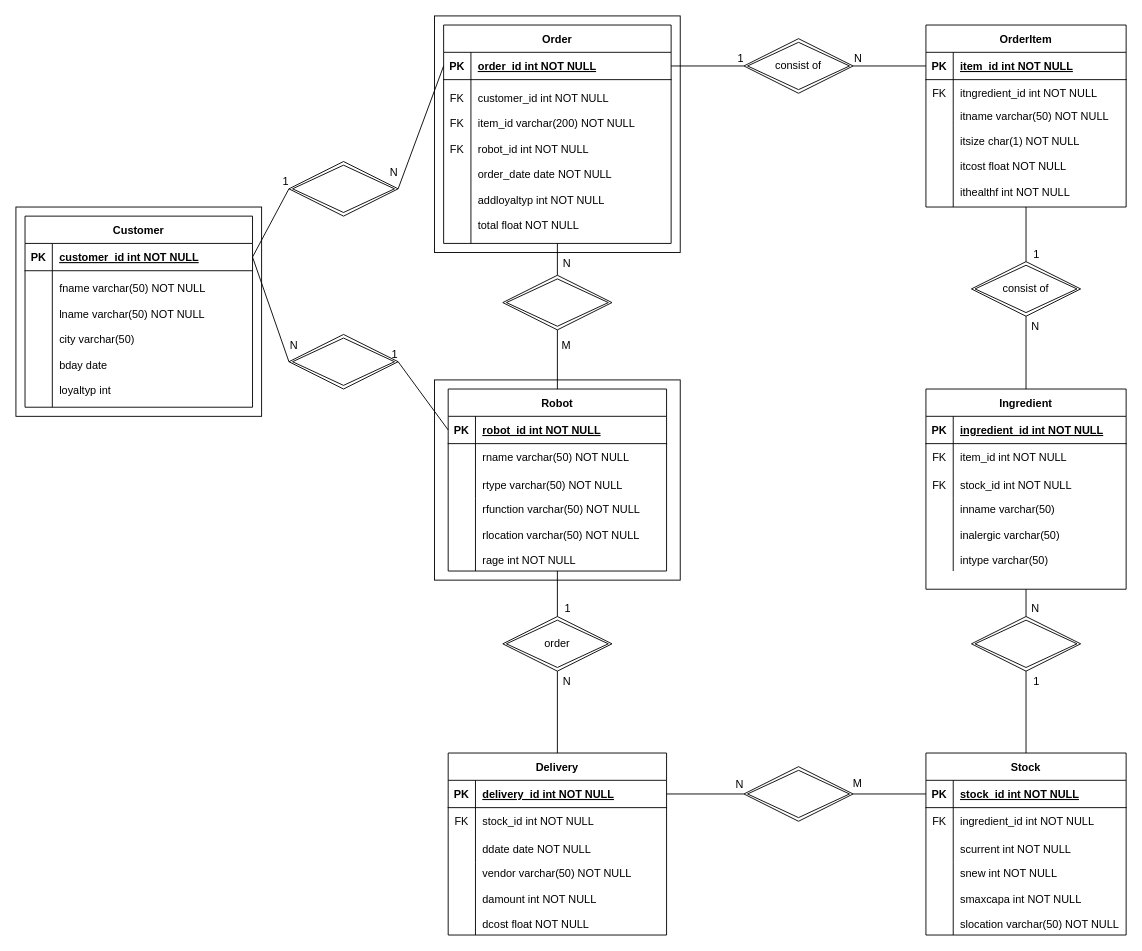
Some shapes in this 1142 by 951 pixel diagram are drawn without their labels. Each missing label, with the centre of its shape:
"add to" belongs at point 798,793.
"prepare" belongs at point 557,302.
"request" belongs at point 343,188.
"store" belongs at point 1026,643.
"update" belongs at point 343,361.
